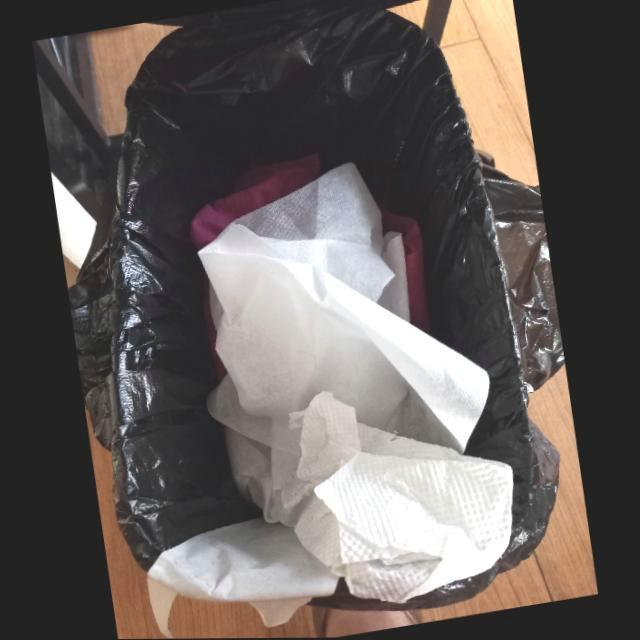paper: (199, 218, 491, 495), (215, 164, 411, 326)
